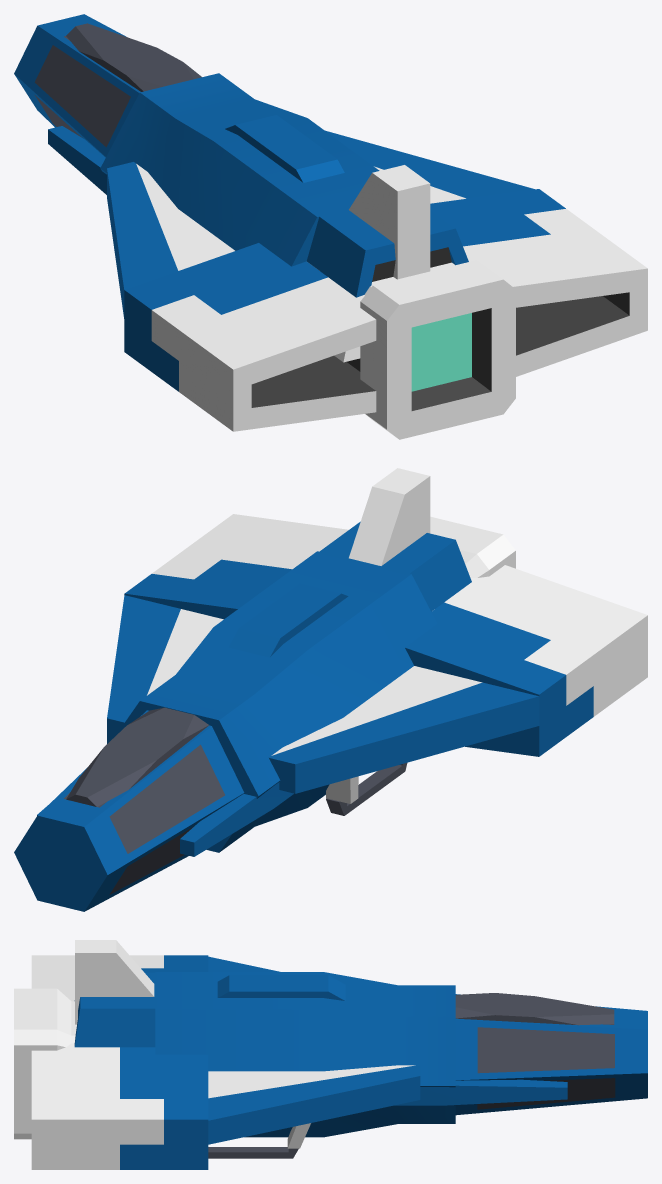
File: SpaceShip1.fbx
The picture shows the model from 3 angles, top to bottom: view 1: azimuth 30°, elevation 25°; view 2: azimuth 150°, elevation 25°; view 3: azimuth 270°, elevation 25°; orthographic projection. The views are drawn at different scales.
Visible parts, largest first — view 1: engine_side_2, engine_rocket%_3, engine_large_0, engine_side_1, glass_ufo%_16, wing_endLong_21, engine_intake_5, plane_rudder_22, glass_high_25, wing_endLong_32, detail_fenderSquare_34, engine_plane_18; view 2: engine_rocket%_3, engine_side_2, glass_ufo%_16, wing_endLong_21, engine_side_1, wing_endLong_32, glass_high_25, plane_rudder_22, engine_intake_5, detail_fenderSquare_34, engine_plane_18, engine_large_0 (+2 smaller); view 3: engine_rocket%_3, engine_side_1, glass_ufo%_16, wing_endLong_32, engine_large_0, engine_intake_5, glass_high_25, plane_rudder_22, engine_plane_17, detail_fenderSquare_34, engine_side_2, detail_roofRails%_33 (+2 smaller).
Boxes of the visible parts, <box> form: engine_side_2: <box>124,243,376,431</box>; engine_rocket%_3: <box>100,73,379,266</box>; engine_large_0: <box>360,260,515,439</box>; engine_side_1: <box>430,189,647,376</box>; glass_ufo%_16: <box>14,14,140,157</box>; wing_endLong_21: <box>107,162,234,318</box>; engine_intake_5: <box>306,209,468,362</box>; plane_rudder_22: <box>349,165,430,279</box>; glass_high_25: <box>66,23,201,91</box>; wing_endLong_32: <box>325,130,534,203</box>; detail_fenderSquare_34: <box>225,115,344,182</box>; engine_plane_18: <box>48,126,106,194</box>; engine_rocket%_3: <box>115,551,437,852</box>; engine_side_2: <box>405,565,647,756</box>; glass_ufo%_16: <box>14,710,244,911</box>; wing_endLong_21: <box>269,666,539,793</box>; engine_side_1: <box>124,514,348,619</box>; wing_endLong_32: <box>107,595,223,743</box>; glass_high_25: <box>66,707,208,806</box>; plane_rudder_22: <box>349,468,430,565</box>; engine_intake_5: <box>320,521,471,611</box>; detail_fenderSquare_34: <box>228,583,348,657</box>; engine_plane_18: <box>180,782,293,856</box>; engine_large_0: <box>430,516,515,577</box>; engine_rocket%_3: <box>155,972,455,1137</box>; engine_side_1: <box>31,1043,208,1169</box>; glass_ufo%_16: <box>455,994,647,1115</box>; wing_endLong_32: <box>208,1065,420,1144</box>; engine_large_0: <box>14,988,76,1139</box>; engine_intake_5: <box>74,972,155,1047</box>; glass_high_25: <box>455,993,614,1025</box>; plane_rudder_22: <box>75,940,154,1024</box>; engine_plane_17: <box>394,1079,567,1105</box>; detail_fenderSquare_34: <box>217,975,345,1000</box>; engine_side_2: <box>31,955,208,1001</box>; detail_roofRails%_33: <box>208,1147,298,1158</box>.
Size of the model in its own units: 22 by 11.66 by 35.9.
